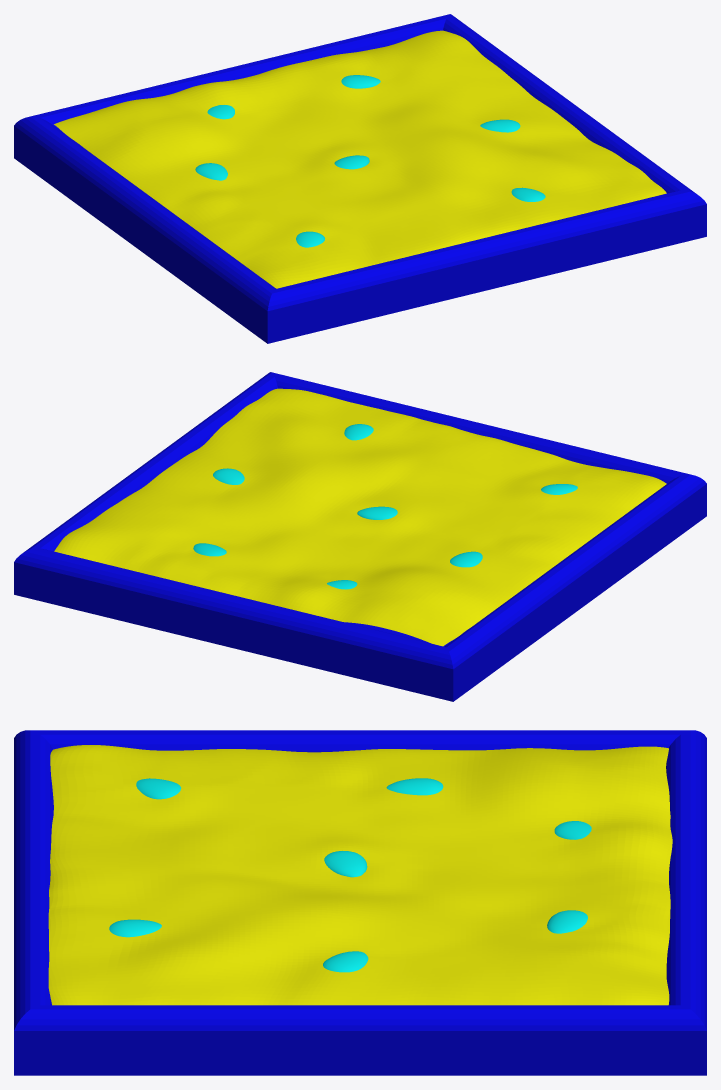
File: Stage_2.fbx
3 renders of one model, top to bottom at view 1: azimuth 30°, elevation 25°; view 2: azimuth 150°, elevation 25°; view 3: azimuth 270°, elevation 25°, orthographic. The views are drawn at different scales.
Parts seen in each view (by area): view 1: Bed_Dirt_HP:Bed_HPdirt, Bed_Dirt_HP:baseBed_HP; view 2: Bed_Dirt_HP:Bed_HPdirt, Bed_Dirt_HP:baseBed_HP; view 3: Bed_Dirt_HP:Bed_HPdirt, Bed_Dirt_HP:baseBed_HP, Tomato_Seed_5_Stage_1, Tomato_Seed_4_Stage_1, Tomato_Seed_7_Stage_1, Tomato_Seed_2_Stage_1, Tomato_Seed_6_Stage_1, Tomato_Seed_1_Stage_1, Tomato_Seed_3_Stage_1.
Part boxes in pixels (x1,y1,x2,y2): Bed_Dirt_HP:Bed_HPdirt: [54, 30, 666, 288]; Bed_Dirt_HP:baseBed_HP: [14, 14, 706, 343]; Bed_Dirt_HP:Bed_HPdirt: [54, 388, 666, 646]; Bed_Dirt_HP:baseBed_HP: [14, 372, 706, 701]; Bed_Dirt_HP:Bed_HPdirt: [48, 745, 672, 1005]; Bed_Dirt_HP:baseBed_HP: [14, 730, 706, 1075]; Tomato_Seed_5_Stage_1: [324, 851, 367, 877]; Tomato_Seed_4_Stage_1: [386, 778, 443, 795]; Tomato_Seed_7_Stage_1: [547, 910, 587, 933]; Tomato_Seed_2_Stage_1: [323, 951, 368, 972]; Tomato_Seed_6_Stage_1: [109, 919, 161, 937]; Tomato_Seed_1_Stage_1: [136, 778, 181, 799]; Tomato_Seed_3_Stage_1: [554, 821, 591, 839].
Size of the model in its own units: 4.24 by 0.4734 by 4.24.
